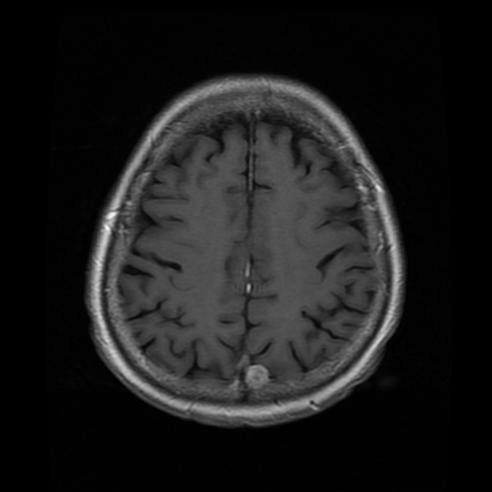Tumour-Meningioma: (236, 352, 293, 406)
